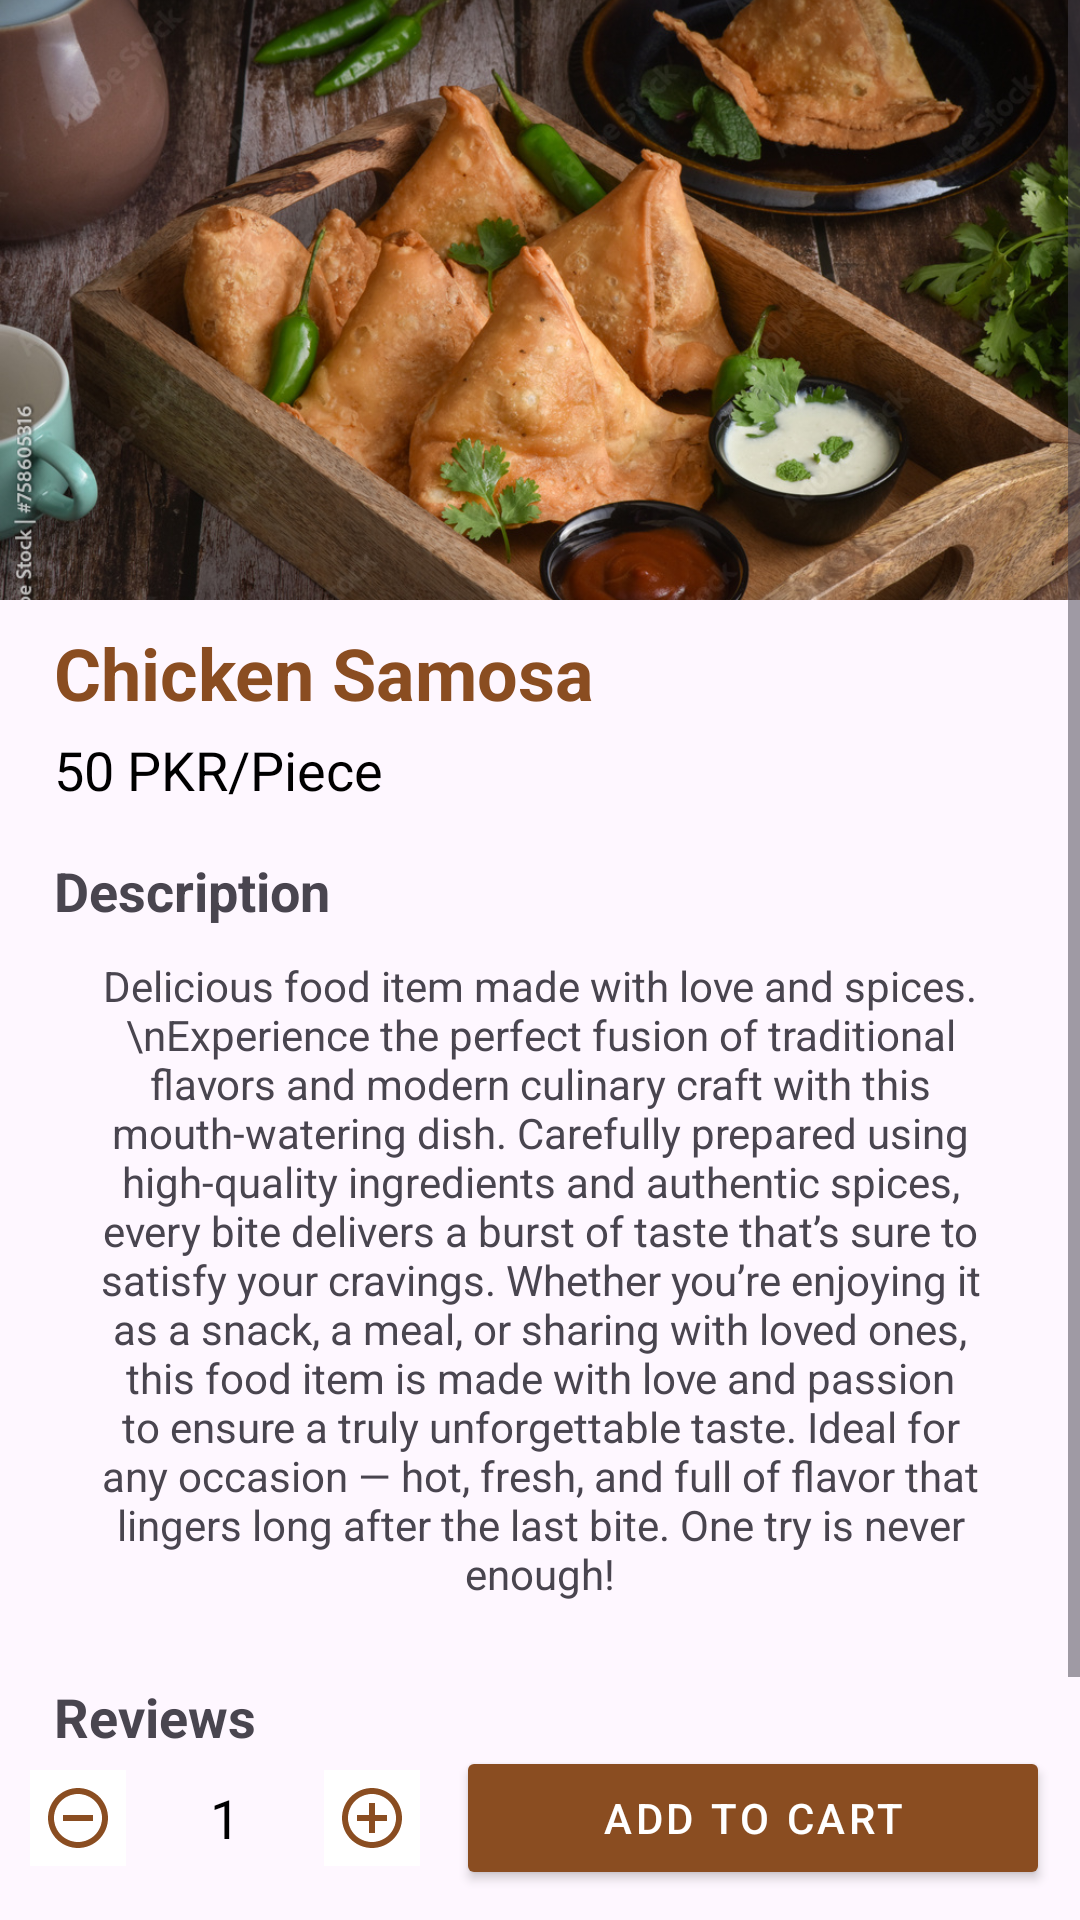

Point at icon controls on the screen. Image size 1080w x 1920h, points as point (x, y).
Decrease Quantity: point (78, 1818)
Increase Quantity: point (372, 1818)
